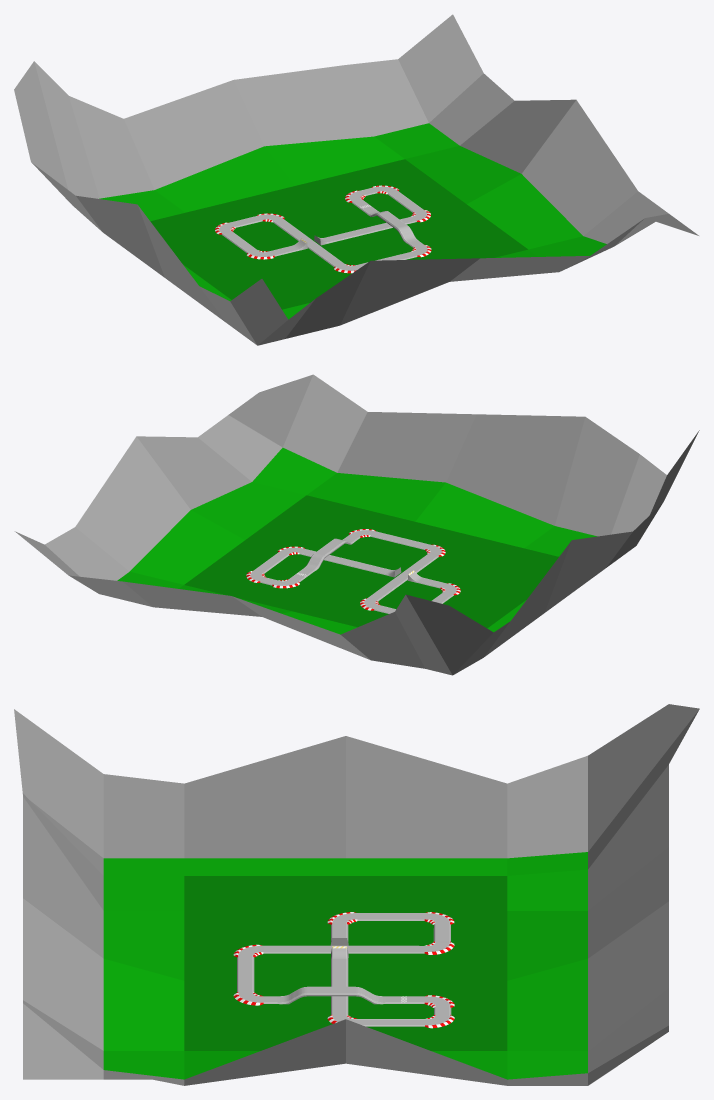
Rendered from RaceTrack.fbx.
The picture shows the model from 3 angles, top to bottom: view 1: azimuth 30°, elevation 25°; view 2: azimuth 150°, elevation 25°; view 3: azimuth 270°, elevation 25°; orthographic projection. The views are drawn at different scales.
Parts seen in each view (by area): view 1: Ground, Track01; view 2: Ground, Track01; view 3: Ground, Track01.
Boxes of the visible parts, left/top/right/bottom form: Ground: left=14, top=14, right=698, bottom=345; Track01: left=215, top=185, right=431, bottom=273; Ground: left=14, top=374, right=699, bottom=675; Track01: left=246, top=529, right=460, bottom=613; Ground: left=14, top=704, right=699, bottom=1085; Track01: left=233, top=912, right=454, bottom=1028.
Size of what is drawn, in the model's own units: 45818 by 11345 by 45960.
